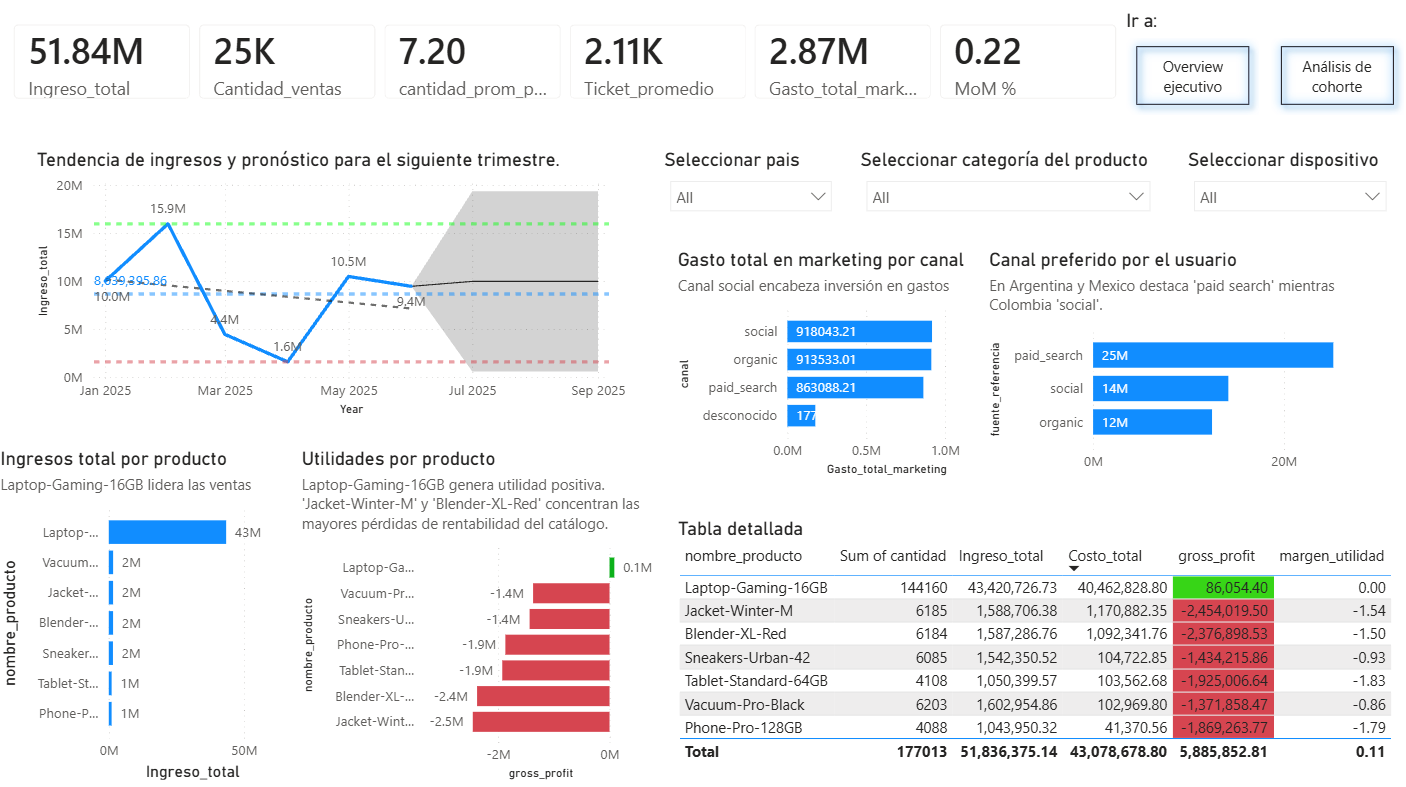

The dashboard page shown, as its layout file describes it:
{"tool":"powerbi","page":{"name":"Análisis detallado","canvas":[1280,720],"ordinal":1},"visuals":[{"type":"clusteredBarChart","title":"Gasto total en marketing por canal","fields":{"Category":["marketing_clean.canal"],"Y":["orders_clean.Gasto_total_marketing"]},"box":[611.2,231.2,302.5,210],"z":0},{"type":"clusteredBarChart","title":"Canal preferido por el usuario","fields":{"Category":["orders_clean.fuente_referencia"],"Y":["orders_clean.Ingreso_total"]},"box":[891.2,231.2,378.8,210],"z":1000},{"type":"lineChart","title":"Tendencia de ingresos y  pronóstico para el siguiente trimestre.","fields":{"Y":["orders_clean.Ingreso_total"],"Category":["Dim_Fecha.Date.Variation.Date Hierarchy.Year","Dim_Fecha.Date.Variation.Date Hierarchy.Quarter","Dim_Fecha.Date.Variation.Date Hierarchy.Month"]},"box":[32.5,141.2,541.2,246.2],"z":2000},{"type":"cardVisual","fields":{"Data":["orders_clean.Ingreso_total","orders_clean.Cantidad_ventas","orders_clean.cantidad_prom_productos_orden","orders_clean.Ticket_promedio","orders_clean.Gasto_total_marketing","orders_clean.MoM %"]},"box":[0,12.9,1028.6,101.4],"z":3000},{"type":"barChart","title":"Ingresos total por producto","fields":{"Category":["orders_clean.nombre_producto"],"Y":["orders_clean.Ingreso_total"]},"box":[0,410,271.2,305],"z":4000},{"type":"tableEx","title":"Tabla detallada","fields":{"Values":["orders_clean.nombre_producto","Sum(orders_clean.cantidad)","orders_clean.Ingreso_total","orders_clean.Costo_total","orders_clean.gross_profit","orders_clean.margen_utilidad"]},"box":[611.2,473.8,655,227.5],"z":5000},{"type":"slicer","title":"Seleccionar pais","fields":{"Values":["orders_clean.pais"]},"box":[598.8,141.2,166.2,67.5],"z":6000},{"type":"barChart","title":"Utilidades por producto","fields":{"Category":["orders_clean.nombre_producto"],"Y":["orders_clean.gross_profit"]},"box":[271.2,410,340,305],"z":7000},{"type":"slicer","title":"Seleccionar categoría del producto","fields":{"Values":["orders_clean.categoria_producto"]},"box":[775,141.2,276.2,67.5],"z":8000},{"type":"slicer","title":"Seleccionar dispositivo","fields":{"Values":["orders_clean.dispositivo"]},"box":[1070.3,141,193.8,67.5],"z":9000},{"type":"pageNavigator","title":"Ir a:","box":[1020,15.7,250,95.7],"z":10000}]}

Visuals, with their boxes in screenshot pixels (x1, y1, x2, y2), scaled from the page's 1280x720 canvas onto the 1406x787 screenshot:
"Gasto total en marketing por canal" clusteredBarChart: pyautogui.locateOnScreen(671, 253, 1004, 482)
"Canal preferido por el usuario" clusteredBarChart: pyautogui.locateOnScreen(979, 253, 1395, 482)
"Tendencia de ingresos y  pronóstico para el siguiente trimestre." lineChart: pyautogui.locateOnScreen(36, 154, 630, 423)
cardVisual - orders_clean.Ingreso_total x orders_clean.Cantidad_ventas: pyautogui.locateOnScreen(0, 14, 1130, 125)
"Ingresos total por producto" barChart: pyautogui.locateOnScreen(0, 448, 298, 782)
"Tabla detallada" tableEx: pyautogui.locateOnScreen(671, 518, 1391, 767)
"Seleccionar pais" slicer: pyautogui.locateOnScreen(658, 154, 840, 228)
"Utilidades por producto" barChart: pyautogui.locateOnScreen(298, 448, 671, 782)
"Seleccionar categoría del producto" slicer: pyautogui.locateOnScreen(851, 154, 1155, 228)
"Seleccionar dispositivo" slicer: pyautogui.locateOnScreen(1176, 154, 1389, 228)
"Ir a:" pageNavigator: pyautogui.locateOnScreen(1120, 17, 1395, 122)
